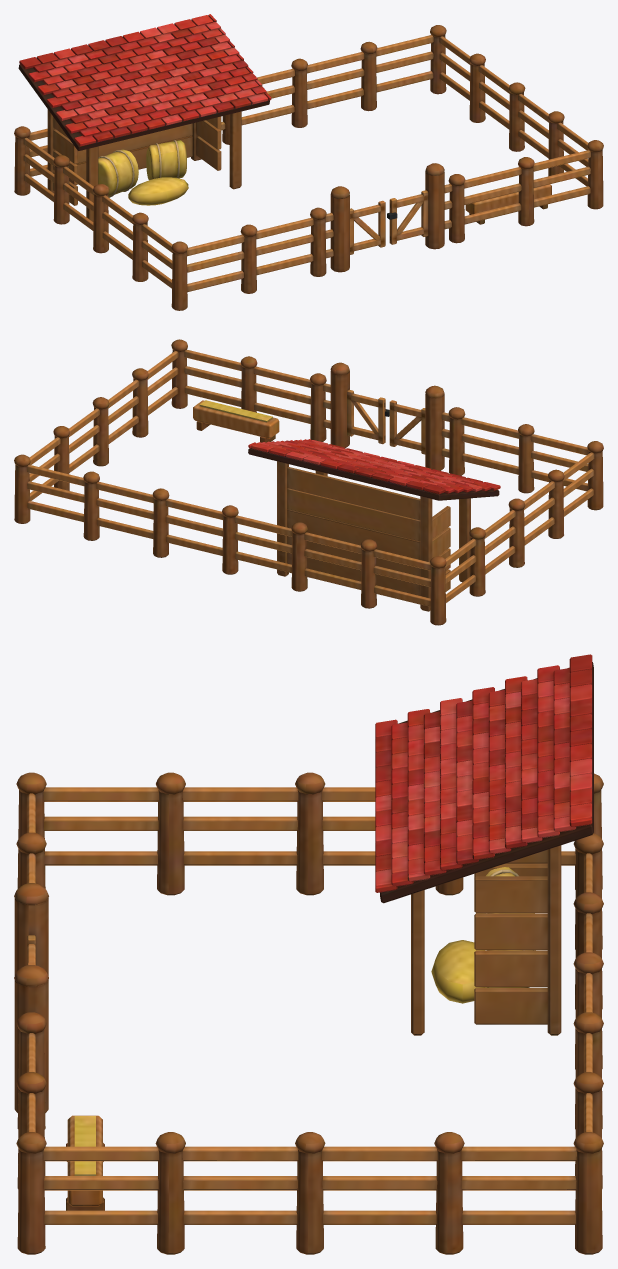
File: vicuna_ranch.glb
3 renders of one model, top to bottom at view 1: azimuth 30°, elevation 25°; view 2: azimuth 150°, elevation 25°; view 3: azimuth 270°, elevation 25°, orthographic. The views are drawn at different scales.
Visible parts, largest first — view 1: vicuna_ranch, gate1, gate0; view 2: vicuna_ranch, gate1, gate0; view 3: vicuna_ranch.
Part boxes in pixels (x1,y1,x2,y2): vicuna_ranch: (14, 14, 603, 310); gate1: (387, 190, 428, 244); gate0: (350, 200, 385, 254); vicuna_ranch: (14, 339, 603, 625); gate1: (347, 389, 389, 444); gate0: (389, 400, 425, 454); vicuna_ranch: (14, 654, 603, 1254).
Bounding box in the file's own units: 3 × 0.9343 × 2.01.
1 material, 1 textured.
